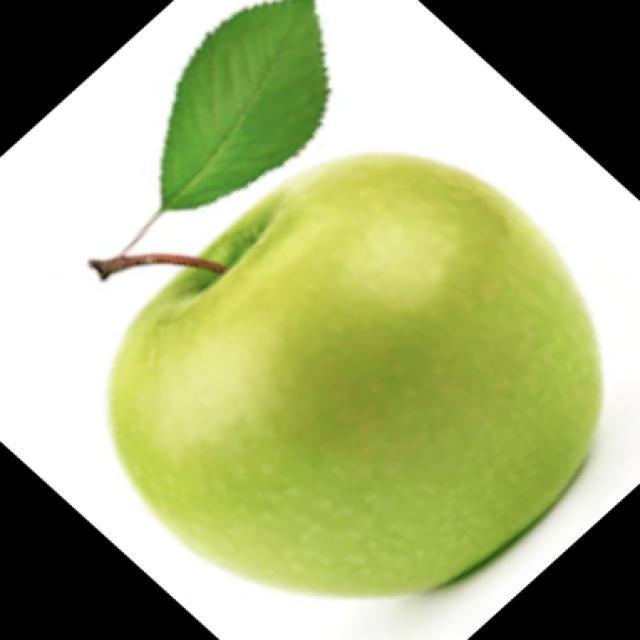Fresh Apple: (115, 147, 607, 600)
